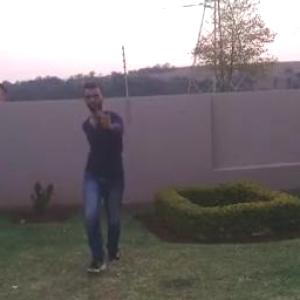takeoff-hand: (92, 100, 118, 134)
